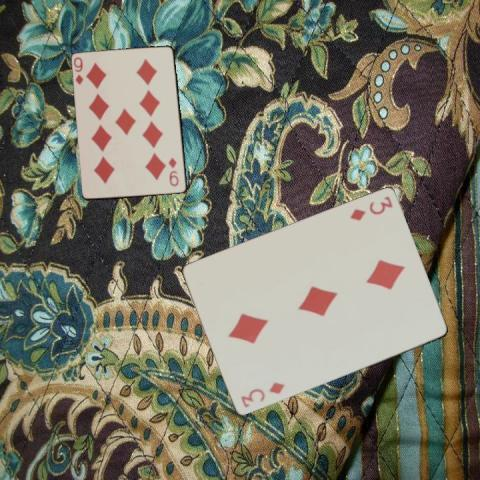3d: (237, 380, 286, 410), (347, 193, 394, 223)
9d: (166, 155, 180, 187), (71, 54, 85, 86)
